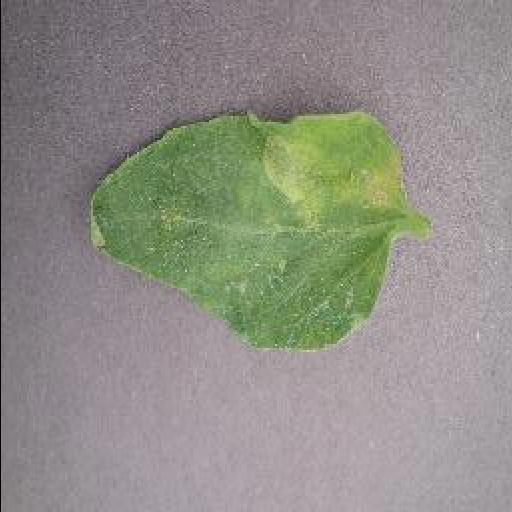disease_tomato: (80, 102, 410, 356)
